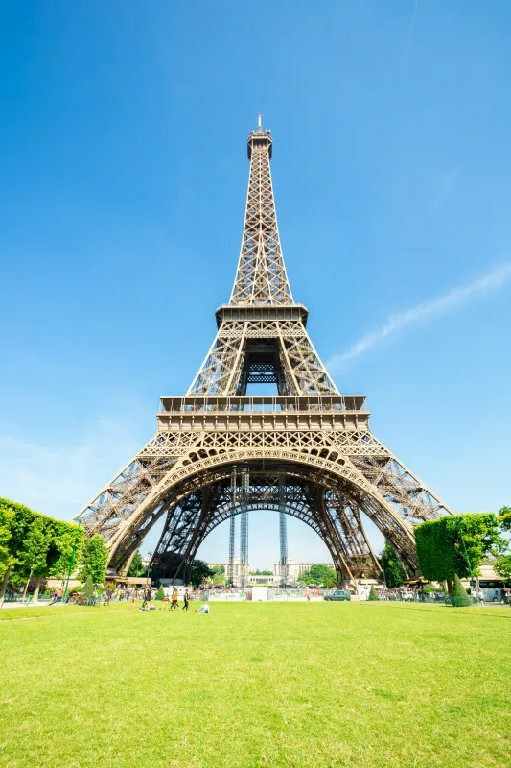Eiffel: (68, 113, 497, 603)
